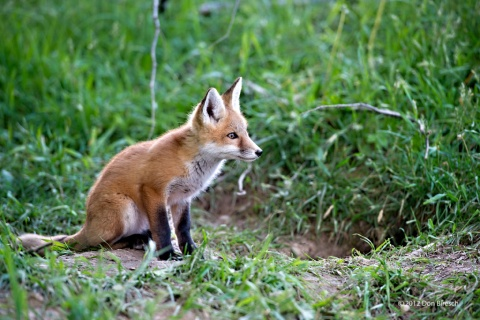Fox: (8, 76, 263, 259)
